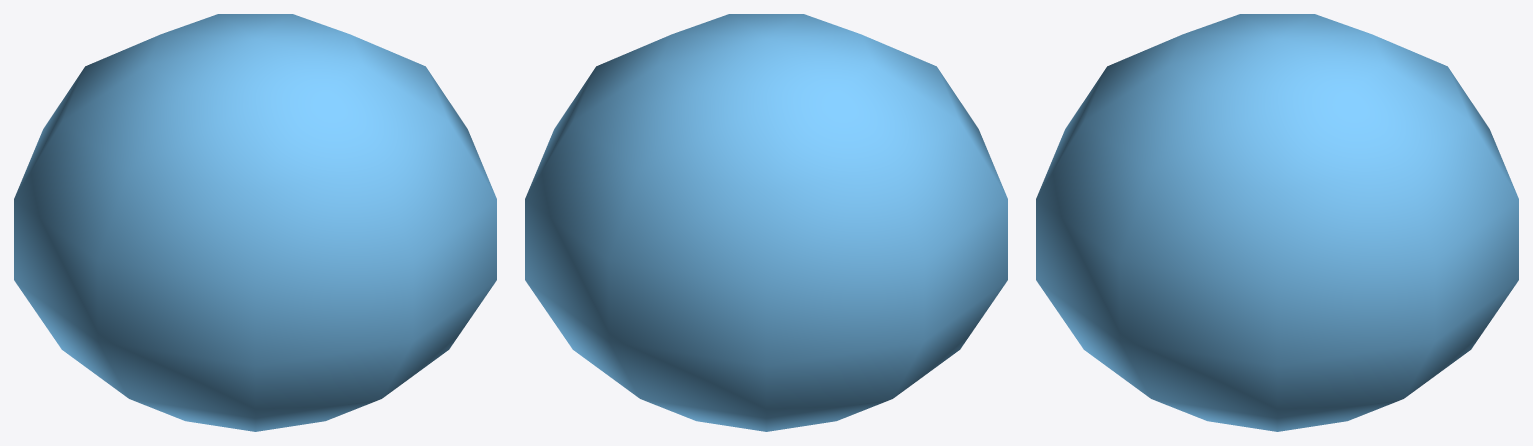
The model's file is icecrystal_stage1.obj.
3 renders of one model, left to right at view 1: azimuth 30°, elevation 25°; view 2: azimuth 150°, elevation 25°; view 3: azimuth 270°, elevation 25°, orthographic.
Bounding box in the file's own units: 1.23 × 1.04 × 1.25.
